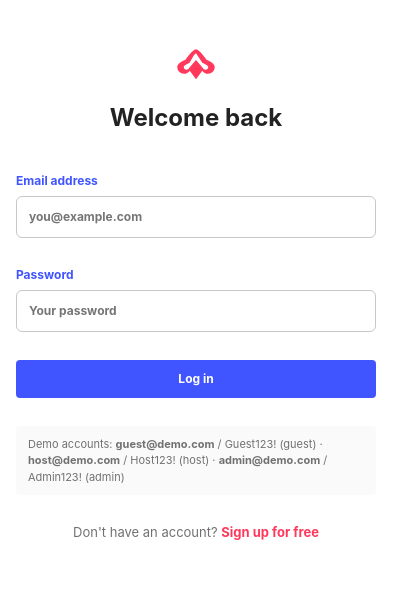
it: Login page submission › shows the server error message on failed login
This screenshot has width=393, height=591.
In the field with placeholder "you@example.com": x=196, y=217 [16, 196, 376, 238], type "guest@demo.com"
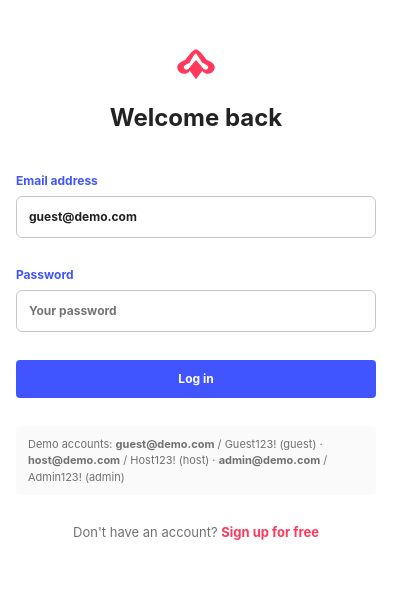
In the password field with placeholder "Your password": x=196, y=311 [16, 290, 376, 332], type "wrongpassword"
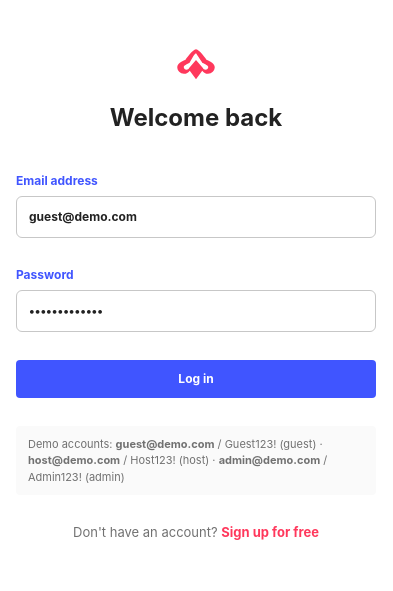
Click the button "Log in": x=196, y=379 [16, 360, 376, 398]
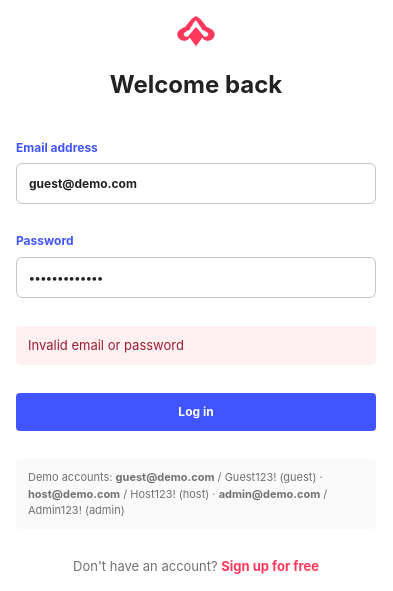
Now the message reads "Invalid email or password", box [28, 337, 184, 353]
